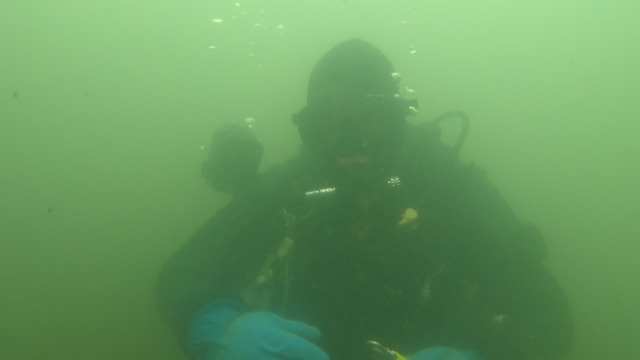Diver: (144, 27, 580, 352)
Hand: (207, 290, 334, 359)
Head: (288, 28, 445, 193)
